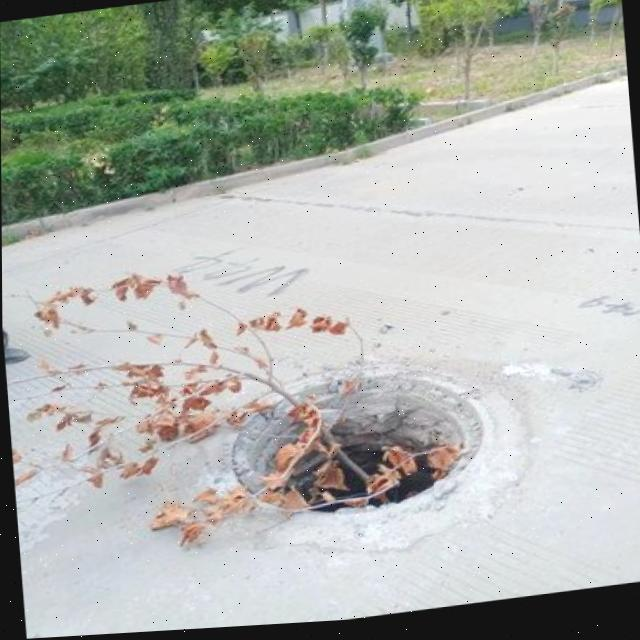manhole: (195, 347, 501, 544)
